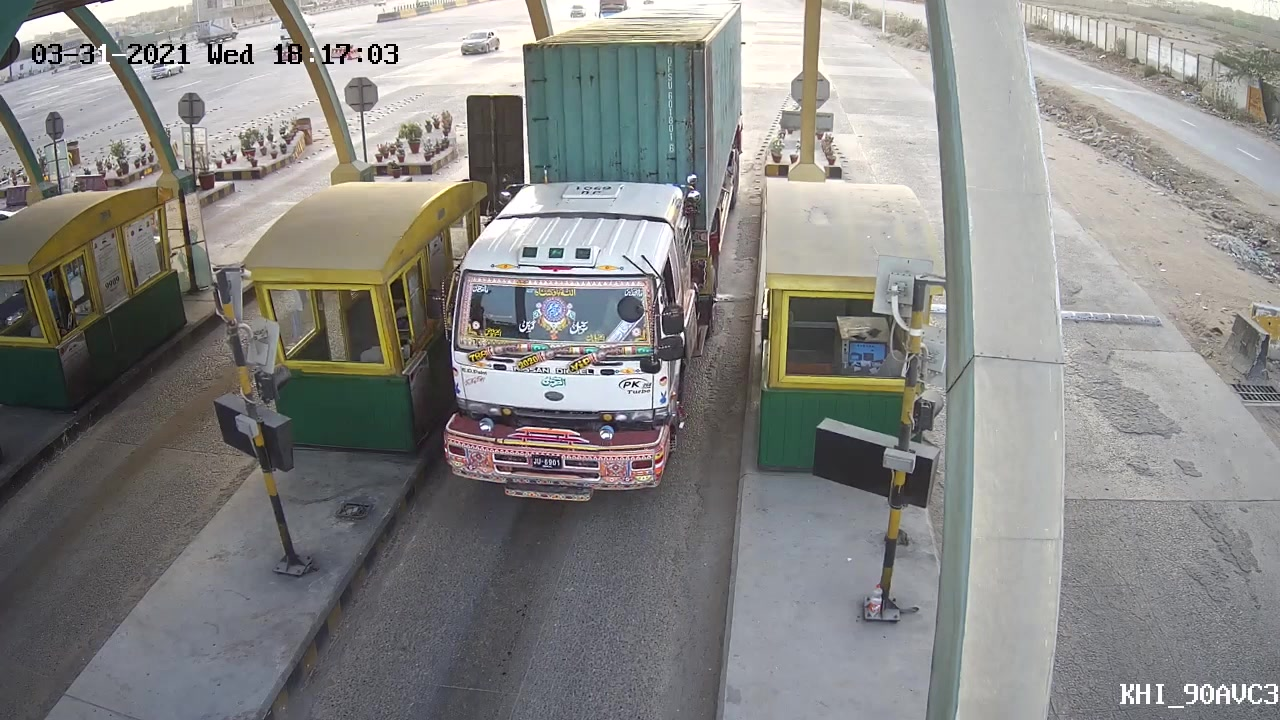F6: (430, 1, 759, 504)
